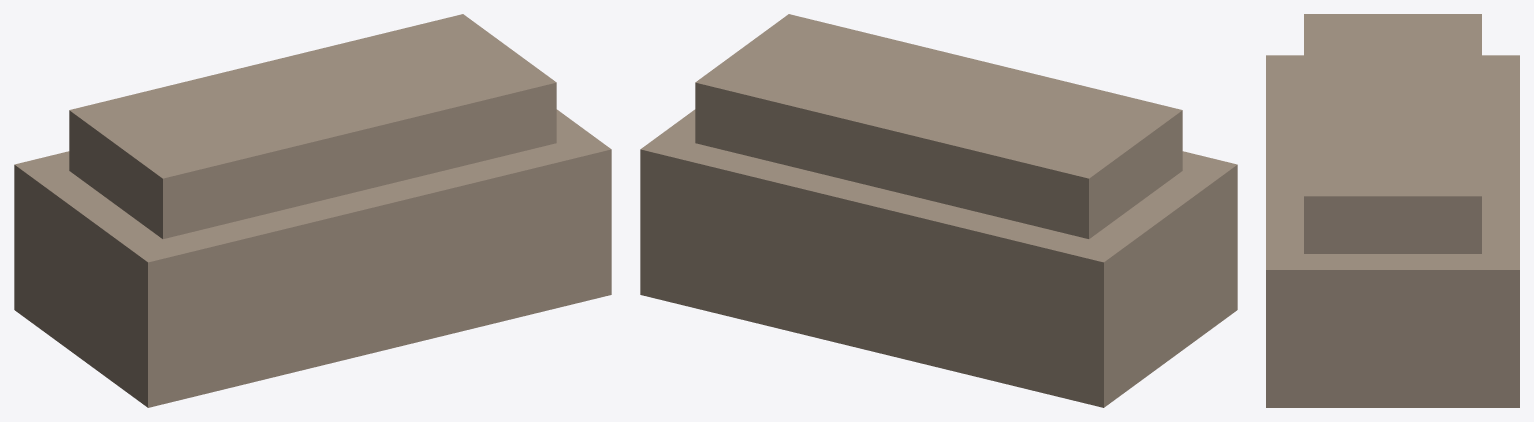
The model's file is planter-2x1.glb.
3 views of the same model, side by side, from view 1: azimuth 30°, elevation 25°; view 2: azimuth 150°, elevation 25°; view 3: azimuth 270°, elevation 25° (orthographic). The views are drawn at different scales.
Visible parts, largest first — view 1: planter-2x1; view 2: planter-2x1; view 3: planter-2x1.
Part boxes in pixels (left/top/right/bottom): planter-2x1: left=14, top=14, right=611, bottom=407; planter-2x1: left=640, top=14, right=1237, bottom=407; planter-2x1: left=1266, top=14, right=1519, bottom=407.
Bounding box in the file's own units: 2 × 0.85 × 1.
